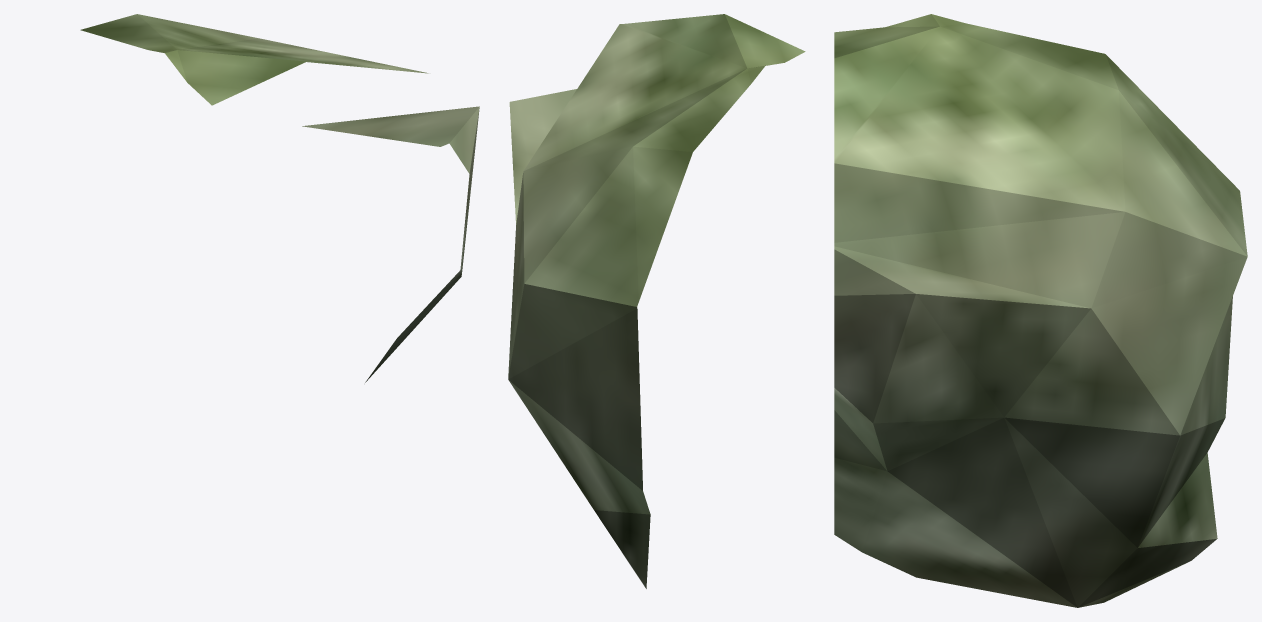
3 views of the same model, side by side, from view 1: azimuth 30°, elevation 25°; view 2: azimuth 150°, elevation 25°; view 3: azimuth 270°, elevation 25° (orthographic). The views are drawn at different scales.
Size of the model in its own units: 0.2136 by 0.3833 by 0.2424.
Materials: 1 (1 with a texture image).
